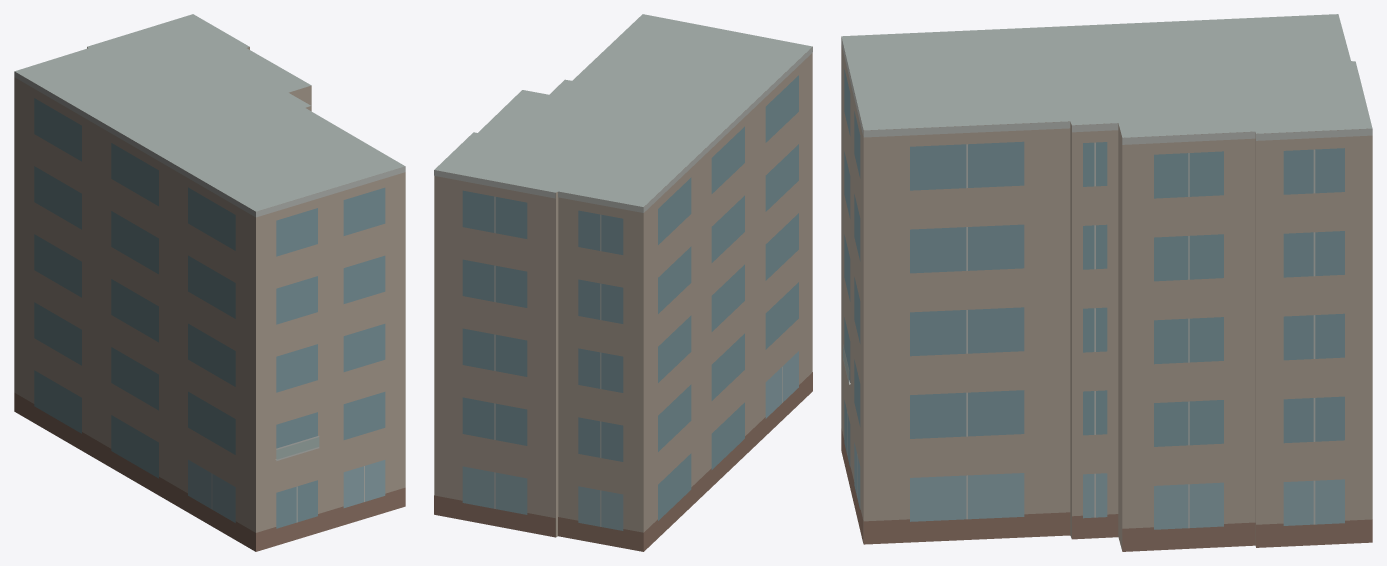
Rendered from survey-upis-33037522.glb.
3 views of the same model, side by side, from view 1: azimuth 30°, elevation 25°; view 2: azimuth 150°, elevation 25°; view 3: azimuth 270°, elevation 25° (orthographic). The views are drawn at different scales.
Visible parts, largest first — view 1: survey-upis-33037522.tmp; view 2: survey-upis-33037522.tmp; view 3: survey-upis-33037522.tmp.
Part boxes in pixels (x1,y1,x2,y2): survey-upis-33037522.tmp: [14, 14, 405, 551]; survey-upis-33037522.tmp: [434, 14, 812, 551]; survey-upis-33037522.tmp: [841, 14, 1372, 551].
Size of the model in its own units: 9.15 by 14.25 by 16.58.
